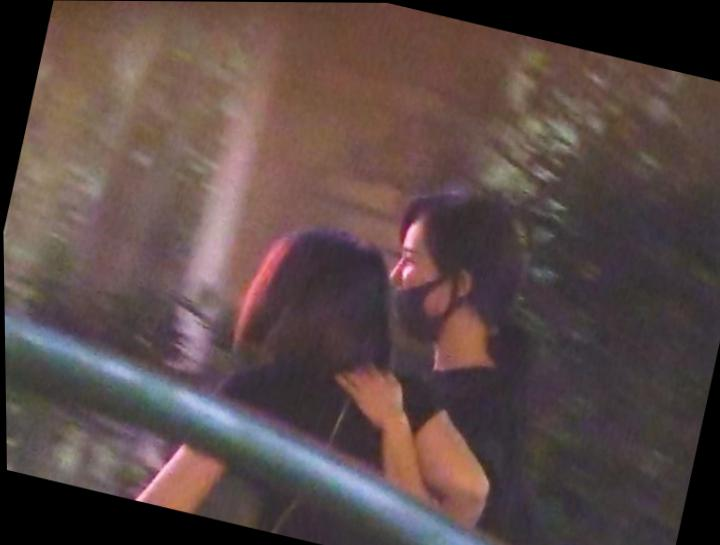WRONG: (372, 228, 467, 347)
